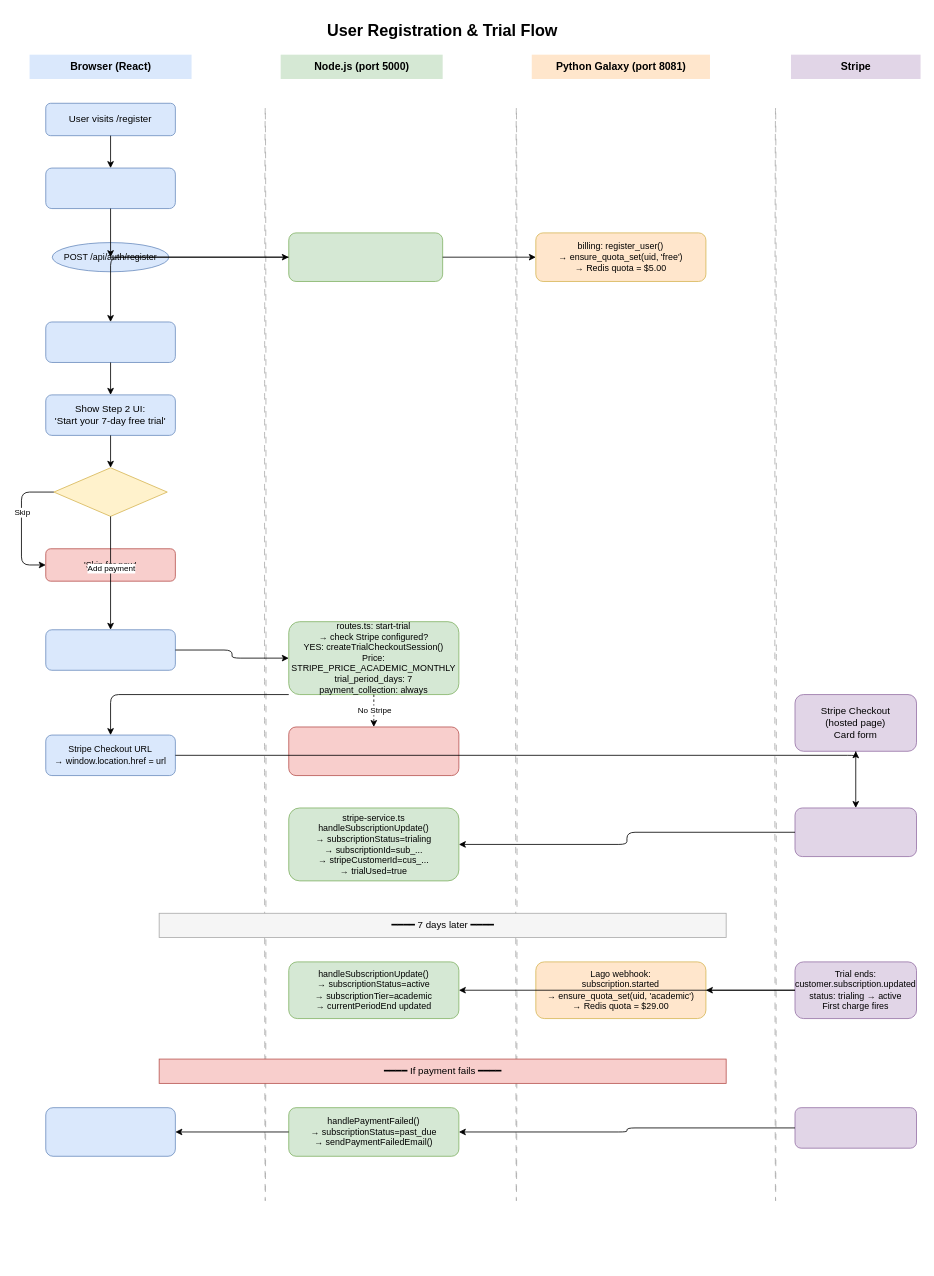
Some shapes in this 934 by 1276 pixel diagram are drawn without their labels. Each missing label, with the centre of its shape:
"auth-service.ts register() → create user in Postgres status=trialing, trial=7d" belongs at (365,256).
"customer.subscription.created webhook → /api/payments/webhook" belongs at (855,832).
"Dev mode (no Stripe) → { devMode: true } → redirect /dashboard" belongs at (373,751).
"Fill account form (name, email, password, terms)" belongs at (110,188).
"invoice.payment_failed webhook" belongs at (855,1127).
"POST /api/auth/start-trial Bearer: {token}" belongs at (110,649).
"Response: { token, user } Store in localStorage" belongs at (110,341).
"User clicks 'Add payment'" belongs at (110,491).
"User receives email: 'Update payment method' → /billing → Stripe portal" belongs at (110,1131).
